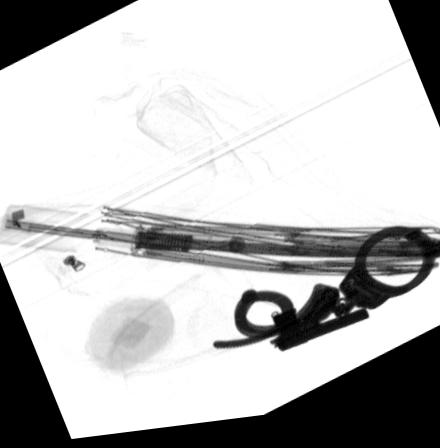Gun: (268, 314, 370, 357)
HandCuffs: (209, 231, 436, 354)
